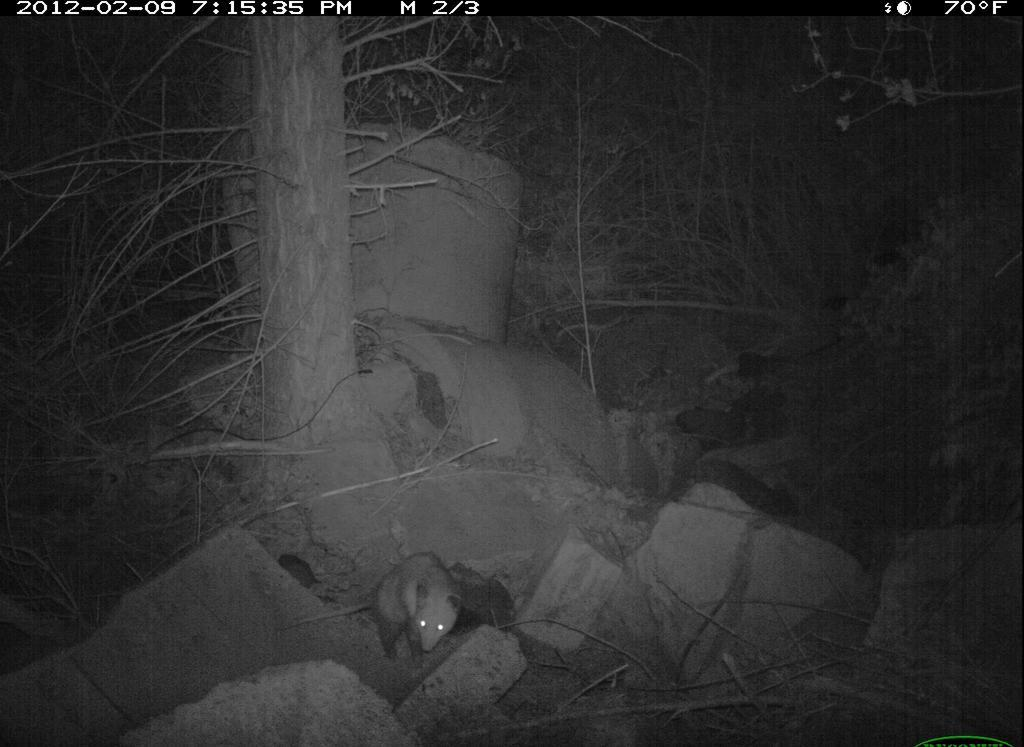opossum: (268, 541, 487, 676)
